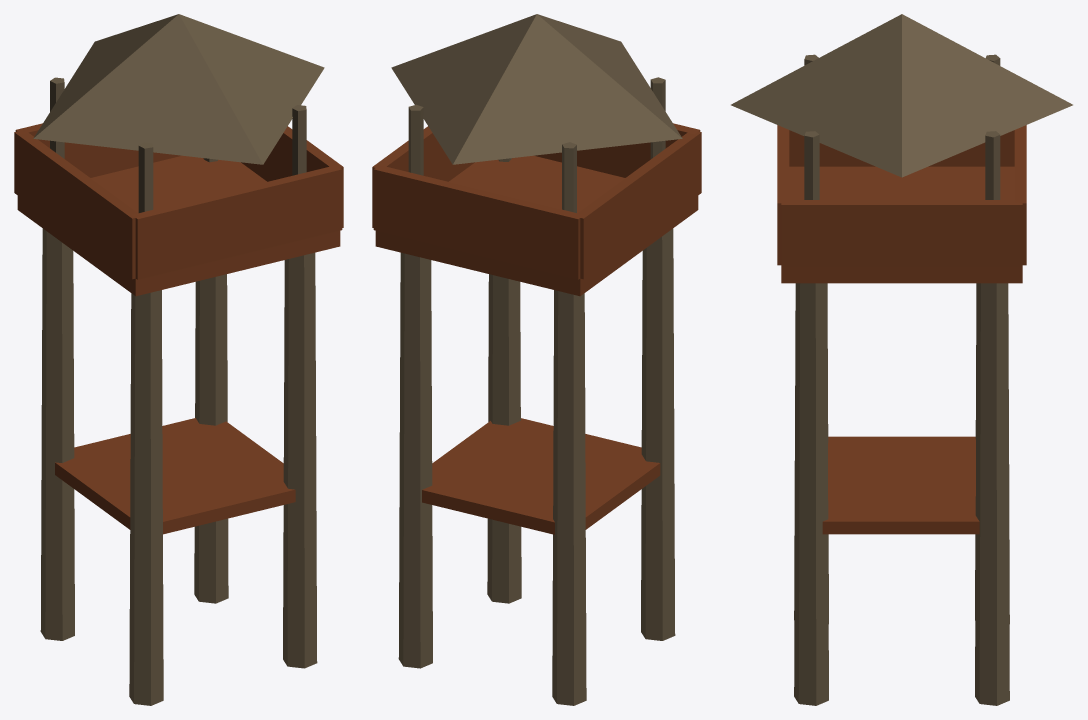
Rendered from ratfolk_tower.glb.
3 renders of one model, left to right at view 1: azimuth 30°, elevation 25°; view 2: azimuth 150°, elevation 25°; view 3: azimuth 270°, elevation 25°, orthographic. The views are drawn at different scales.
Parts seen in each view (by area): view 1: ratfolk_tower; view 2: ratfolk_tower; view 3: ratfolk_tower.
Part boxes in pixels (x1,y1,x2,y2): ratfolk_tower: [14, 14, 343, 705]; ratfolk_tower: [372, 14, 701, 705]; ratfolk_tower: [731, 14, 1072, 705].
Bounding box in the file's own units: 1.71 × 3.55 × 1.71.
